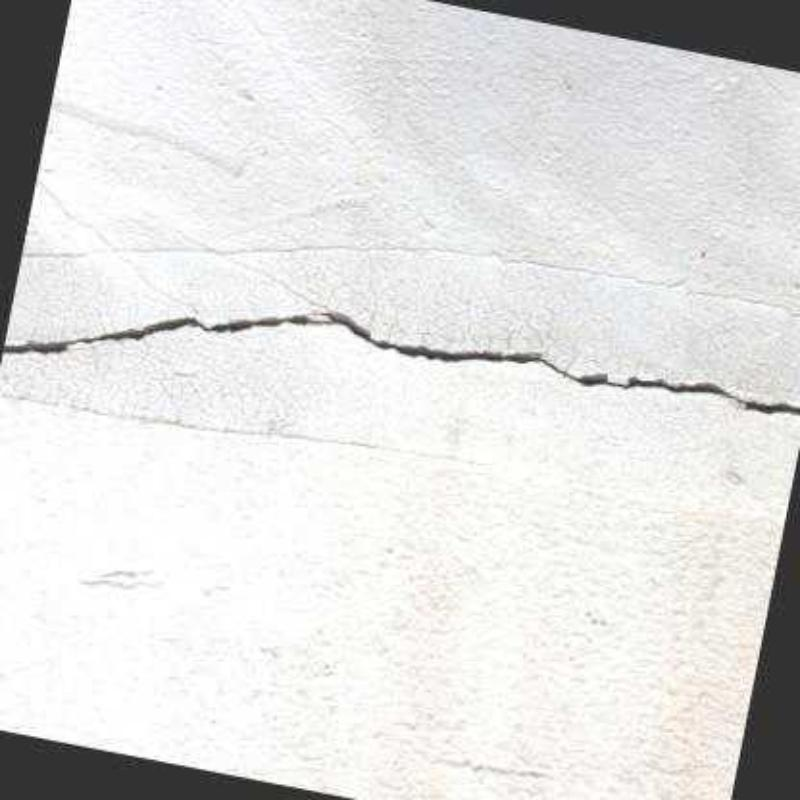crack: (3, 313, 798, 416)
